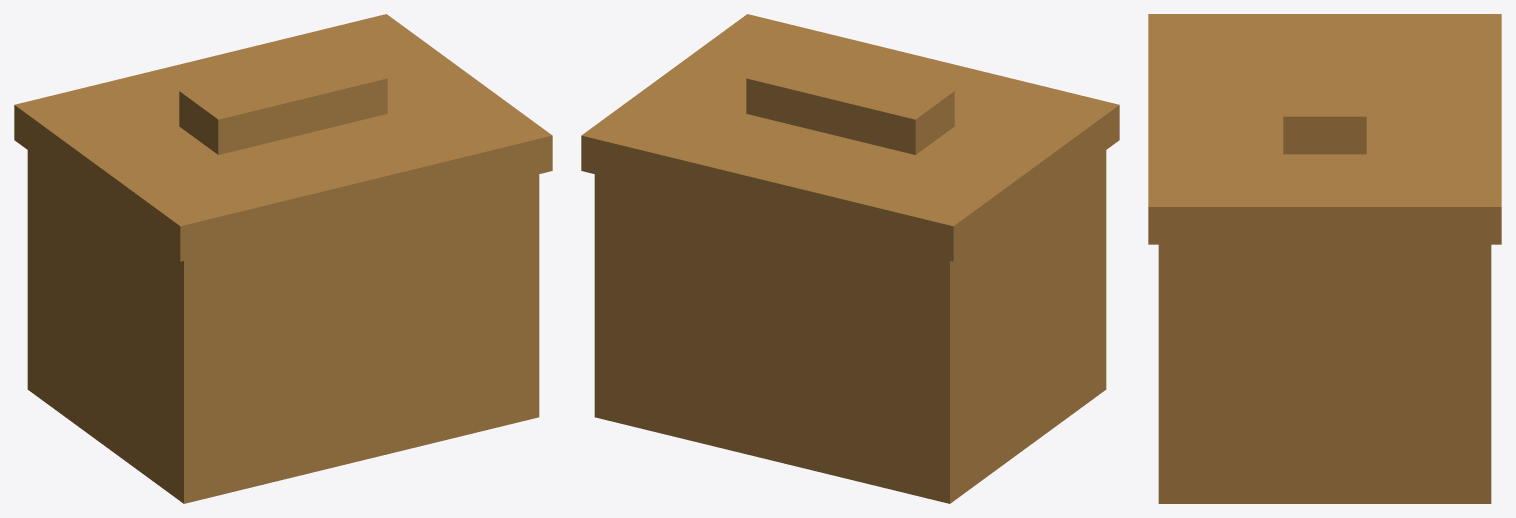
The model's file is product_glaze_carton.glb.
3 renders of one model, left to right at view 1: azimuth 30°, elevation 25°; view 2: azimuth 150°, elevation 25°; view 3: azimuth 270°, elevation 25°, orthographic. The views are drawn at different scales.
Visible parts, largest first — view 1: ProductArt_body; view 2: ProductArt_body; view 3: ProductArt_body.
Part boxes in pixels (x1,y1,x2,y2): ProductArt_body: (14,14,552,503); ProductArt_body: (581,14,1119,503); ProductArt_body: (1148,14,1501,503).
Size of the model in its own units: 0.24 by 0.1964 by 0.1855.
